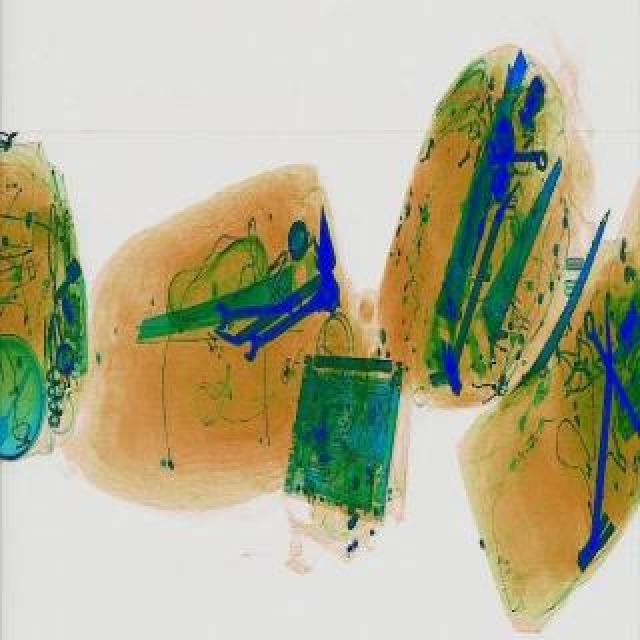scissors: (210, 288, 304, 328), (482, 134, 550, 174)
